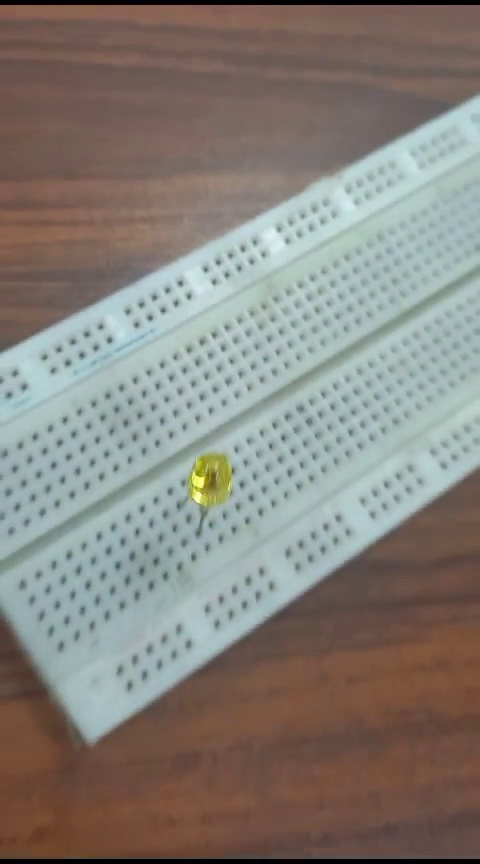LED: (180, 444, 242, 541)
